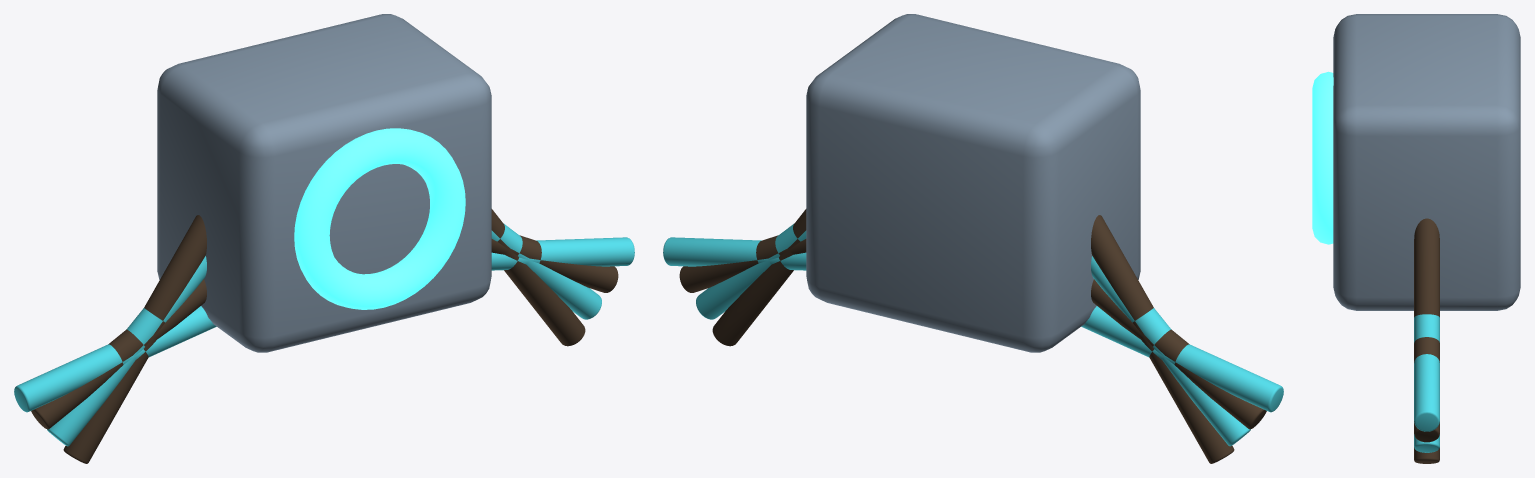
File: construct_v7.glb
The picture shows the model from 3 angles, left to right: view 1: azimuth 30°, elevation 25°; view 2: azimuth 150°, elevation 25°; view 3: azimuth 270°, elevation 25°; orthographic projection. The views are drawn at different scales.
Visible parts, largest first — view 1: SPIDER_MACHINE_CORE_PRIMARY, MACHINE_GEAR_EMISSIVE, MACHINE_LEG_SECONDARY, MACHINE_LEG_ACCENT.002, MACHINE_LEG_ACCENT, MACHINE_LEG_SECONDARY.001, MACHINE_LEG_SECONDARY.002, MACHINE_LEG_ACCENT.003, MACHINE_LEG_ACCENT.001, MACHINE_LEG_SECONDARY.003; view 2: SPIDER_MACHINE_CORE_PRIMARY, MACHINE_LEG_SECONDARY, MACHINE_LEG_ACCENT.002, MACHINE_LEG_ACCENT, MACHINE_LEG_SECONDARY.001, MACHINE_LEG_SECONDARY.002, MACHINE_LEG_ACCENT.003, MACHINE_LEG_ACCENT.001, MACHINE_LEG_SECONDARY.003; view 3: SPIDER_MACHINE_CORE_PRIMARY, MACHINE_GEAR_EMISSIVE, MACHINE_LEG_SECONDARY.001, MACHINE_LEG_ACCENT.003, MACHINE_LEG_ACCENT.001, MACHINE_LEG_SECONDARY.003.
Boxes of the visible parts, x1,y1,x2,y2 form: SPIDER_MACHINE_CORE_PRIMARY: (157, 14, 491, 352); MACHINE_GEAR_EMISSIVE: (294, 128, 465, 309); MACHINE_LEG_SECONDARY: (63, 215, 206, 463); MACHINE_LEG_ACCENT.002: (14, 306, 216, 412); MACHINE_LEG_ACCENT: (47, 256, 206, 446); MACHINE_LEG_SECONDARY.001: (491, 209, 585, 346); MACHINE_LEG_SECONDARY.002: (31, 279, 206, 429); MACHINE_LEG_ACCENT.003: (491, 237, 634, 270); MACHINE_LEG_ACCENT.001: (491, 223, 601, 319); MACHINE_LEG_SECONDARY.003: (491, 235, 618, 292); SPIDER_MACHINE_CORE_PRIMARY: (806, 14, 1140, 352); MACHINE_LEG_SECONDARY: (1091, 215, 1234, 463); MACHINE_LEG_ACCENT.002: (1081, 306, 1283, 412); MACHINE_LEG_ACCENT: (1091, 256, 1250, 446); MACHINE_LEG_SECONDARY.001: (712, 209, 806, 346); MACHINE_LEG_SECONDARY.002: (1091, 279, 1266, 429); MACHINE_LEG_ACCENT.003: (663, 237, 806, 270); MACHINE_LEG_ACCENT.001: (696, 223, 806, 319); MACHINE_LEG_SECONDARY.003: (679, 235, 806, 292); SPIDER_MACHINE_CORE_PRIMARY: (1333, 14, 1520, 310); MACHINE_GEAR_EMISSIVE: (1312, 71, 1333, 244); MACHINE_LEG_SECONDARY.001: (1414, 218, 1439, 463); MACHINE_LEG_ACCENT.003: (1414, 354, 1439, 431); MACHINE_LEG_ACCENT.001: (1414, 314, 1439, 452); MACHINE_LEG_SECONDARY.003: (1414, 337, 1439, 442).
Bounding box in the file's own units: 2.7 × 1.41 × 0.89.
